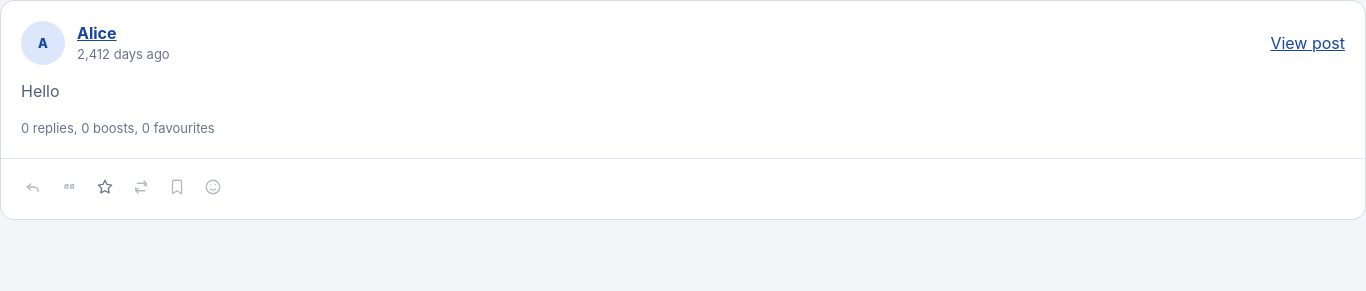
Test: BrowserPostSurface › rejects a post action response whose reference is not a post
The width and height of the screenshot is (1366, 291).
What coordinates should you click on to do the following:
click the button named "Favourite"
I would click on:
 (105, 187)
Its box is x1=89 y1=171 x2=121 y2=203.
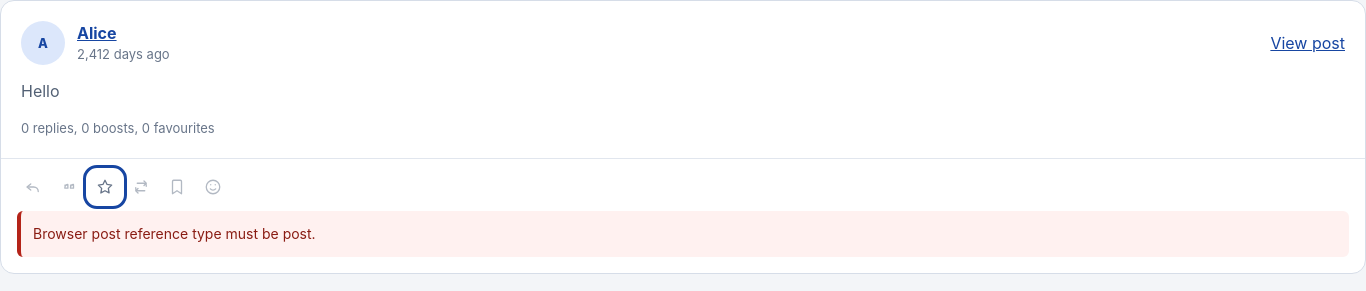
Expected: the message reads "Browser post reference type must be post.", x1=33 y1=225 x2=316 y2=242
